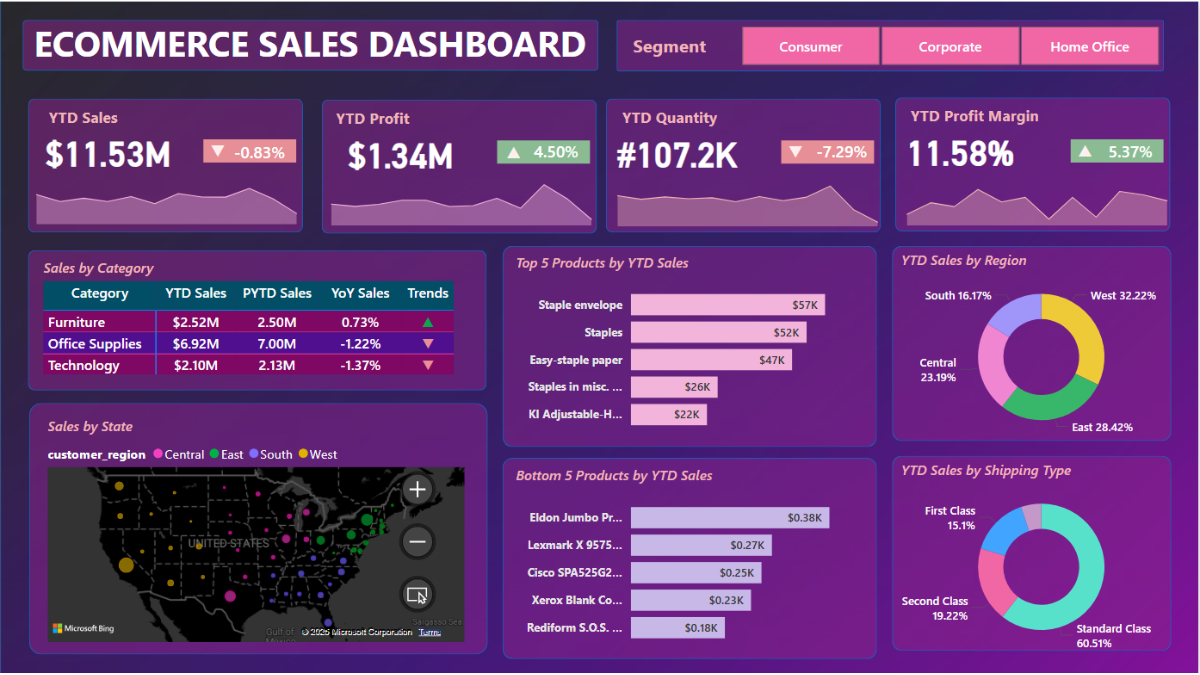

What the dashboard file says about the page in this screenshot:
{"tool":"powerbi","page":{"name":"Page 1","canvas":[1280,720],"ordinal":0},"visuals":[{"type":"shape","box":[24.4,19.8,615.1,54.7],"z":0},{"type":"shape","box":[29.4,103.1,294.5,143.6],"z":1000},{"type":"card","fields":{"Values":["ecommerce_data.YTD Sales"]},"box":[24.5,135,182.8,50.3],"z":2000},{"type":"areaChart","fields":{"Category":["Calendar.Date.Variation.Date Hierarchy.Month"],"Y":["Sum(ecommerce_data.sales_per_order)"]},"box":[24.5,179.1,308,63.8],"z":3000},{"type":"shape","box":[217.2,147.2,99.4,24.5],"z":4000},{"type":"card","fields":{"Values":["ecommerce_data.YoY Sales"]},"box":[227,137.4,101.8,50.3],"z":5000},{"type":"card","fields":{"Values":["ecommerce_data.Sales Icon"]},"box":[214.7,136,35.6,50.3],"z":6000},{"type":"shape","box":[343.5,104.6,294.5,143.6],"z":7000},{"type":"card","fields":{"Values":["ecommerce_data.YTD Profit"]},"box":[336.2,136.2,182.5,50],"z":8000},{"type":"areaChart","fields":{"Category":["Calendar.Date.Variation.Date Hierarchy.Month"],"Y":["Sum(ecommerce_data.profit_per_order)"]},"box":[338.6,180.7,308,63.8],"z":9000},{"type":"shape","box":[531.3,148.8,99.4,24.5],"z":10000},{"type":"card","fields":{"Values":["ecommerce_data.YoY Profit"]},"box":[558.8,146.2,71.2,32.5],"z":11000},{"type":"card","fields":{"Values":["ecommerce_data.Profit Icon"]},"box":[531.1,147.9,35.7,28.6],"z":12000},{"type":"textbox","box":[363.1,109.2,139.9,29.4],"z":13000},{"type":"textbox","box":[30.7,13.5,609.8,66.3],"z":14000},{"type":"textbox","box":[46.6,106.7,99.4,39.3],"z":15000},{"type":"textbox","box":[354.5,108,108,39.3],"z":16000},{"type":"shape","box":[647.2,103.8,294.5,143.6],"z":17000},{"type":"card","fields":{"Values":["ecommerce_data.YTD Concateneted Qty"]},"box":[632.6,135.4,182.8,50.3],"z":18000},{"type":"shape","box":[835,147.9,99.4,24.5],"z":19000},{"type":"card","fields":{"Values":["ecommerce_data.YoY Qty"]},"box":[854.7,140.3,88.3,44.2],"z":20000},{"type":"card","fields":{"Values":["ecommerce_data.Qty Icon"]},"box":[832.5,136.7,35.6,50.3],"z":21000},{"type":"textbox","box":[659.6,107.2,130.1,39.3],"z":22000},{"type":"areaChart","fields":{"Category":["Calendar.Date.Variation.Date Hierarchy.Month"],"Y":["Sum(ecommerce_data.order_quantity)"]},"box":[644.9,182.1,308,63.8],"z":23000},{"type":"shape","box":[956,102.5,294.5,143.6],"z":24000},{"type":"card","fields":{"Values":["ecommerce_data.YTD Profit Margin"]},"box":[935,133.8,182.5,51.2],"z":25000},{"type":"shape","box":[1143.7,146.7,99.4,24.5],"z":26000},{"type":"card","fields":{"Values":["ecommerce_data.YoY Profit Margin"]},"box":[1163,140,89,44],"z":27000},{"type":"card","fields":{"Values":["ecommerce_data.Profit Margin Icon"]},"box":[1141.3,135.4,35.6,50.3],"z":28000},{"type":"textbox","box":[967.8,105.6,156.7,40],"z":29000},{"type":"areaChart","fields":{"Category":["Calendar.Date.Variation.Date Hierarchy.Month"],"Y":["ecommerce_data.Profit Margin"]},"box":[953.6,180.8,308,63.8],"z":30000},{"type":"shape","box":[30,265,490,150],"z":31000},{"type":"pivotTable","title":"Sales by Category","fields":{"Rows":["ecommerce_data.category_name"],"Values":["ecommerce_data.YTD Sales","ecommerce_data.PYTD Sales","ecommerce_data.YoY Sales","ecommerce_data.Sales Icon"]},"box":[41.2,273.8,463.8,130],"z":32000},{"type":"shape","box":[31.2,428.8,490,268.8],"z":33000},{"type":"map","title":"Sales by State","fields":{"Y":["us_state_long_lat_codes.latitude"],"X":["us_state_long_lat_codes.longitude"],"Size":["ecommerce_data.YTD Sales"],"Series":["ecommerce_data.customer_region"]},"box":[46.2,442.5,455,246.2],"z":34000},{"type":"shape","box":[537.2,261.2,400,215],"z":35000},{"type":"shape","box":[537.1,487.5,400,215],"z":36000},{"type":"barChart","title":"Top 5 Products by YTD Sales","fields":{"Category":["ecommerce_data.product_name"],"Y":["ecommerce_data.YTD Sales"]},"box":[546,267.5,385,202.5],"z":37000},{"type":"barChart","title":"Bottom 5 Products by YTD Sales","fields":{"Category":["ecommerce_data.product_name"],"Y":["ecommerce_data.YTD Sales"]},"box":[545.8,495,385,202.5],"z":38000},{"type":"shape","box":[952.5,261.2,298.8,208.8],"z":38001},{"type":"shape","box":[952.5,485,298.8,208.8],"z":38002},{"type":"donutChart","title":"YTD Sales by Region","fields":{"Category":["ecommerce_data.customer_region"],"Y":["ecommerce_data.YTD Sales"]},"box":[957.5,265,310,208.8],"z":38003},{"type":"donutChart","title":"YTD Sales by Shipping Type","fields":{"Y":["ecommerce_data.YTD Sales"],"Category":["ecommerce_data.shipping_type"]},"box":[957.5,490,310,208.8],"z":38004},{"type":"shape","box":[658.8,20,585,55],"z":38005},{"type":"slicer","fields":{"Values":["ecommerce_data.customer_segment"]},"box":[766.2,20,495,55],"z":38006},{"type":"textbox","box":[671.2,30,107.5,40],"z":38007}]}

Visuals, with their boxes in screenshot pixels (x1, y1, x2, y2), scaled from the page's 1280x720 canvas onto the 1200x675 screenshot:
shape: (23,19,600,70)
shape: (28,97,304,231)
card - ecommerce_data.YTD Sales: (23,127,194,174)
areaChart - Calendar.Date.Variation.Date Hierarchy.Month x Sum(ecommerce_data.sales_per_order): (23,168,312,228)
shape: (204,138,297,161)
card - ecommerce_data.YoY Sales: (213,129,308,176)
card - ecommerce_data.Sales Icon: (201,128,235,175)
shape: (322,98,598,233)
card - ecommerce_data.YTD Profit: (315,128,486,175)
areaChart - Calendar.Date.Variation.Date Hierarchy.Month x Sum(ecommerce_data.profit_per_order): (317,169,606,229)
shape: (498,140,591,162)
card - ecommerce_data.YoY Profit: (524,137,591,168)
card - ecommerce_data.Profit Icon: (498,139,531,165)
textbox: (340,102,472,130)
textbox: (29,13,600,75)
textbox: (44,100,137,137)
textbox: (332,101,434,138)
shape: (607,97,883,232)
card - ecommerce_data.YTD Concateneted Qty: (593,127,764,174)
shape: (783,139,876,162)
card - ecommerce_data.YoY Qty: (801,132,884,173)
card - ecommerce_data.Qty Icon: (780,128,814,175)
textbox: (618,100,740,137)
areaChart - Calendar.Date.Variation.Date Hierarchy.Month x Sum(ecommerce_data.order_quantity): (605,171,893,231)
shape: (896,96,1172,231)
card - ecommerce_data.YTD Profit Margin: (877,125,1048,173)
shape: (1072,138,1165,160)
card - ecommerce_data.YoY Profit Margin: (1090,131,1174,172)
card - ecommerce_data.Profit Margin Icon: (1070,127,1103,174)
textbox: (907,99,1054,136)
areaChart - Calendar.Date.Variation.Date Hierarchy.Month x ecommerce_data.Profit Margin: (894,170,1183,229)
shape: (28,248,488,389)
"Sales by Category" pivotTable: (39,257,473,379)
shape: (29,402,489,654)
"Sales by State" map: (43,415,470,646)
shape: (504,245,879,446)
shape: (504,457,879,659)
"Top 5 Products by YTD Sales" barChart: (512,251,873,441)
"Bottom 5 Products by YTD Sales" barChart: (512,464,873,654)
shape: (893,245,1173,441)
shape: (893,455,1173,650)
"YTD Sales by Region" donutChart: (898,248,1188,444)
"YTD Sales by Shipping Type" donutChart: (898,459,1188,655)
shape: (618,19,1166,70)
slicer - ecommerce_data.customer_segment: (718,19,1182,70)
textbox: (629,28,730,66)
